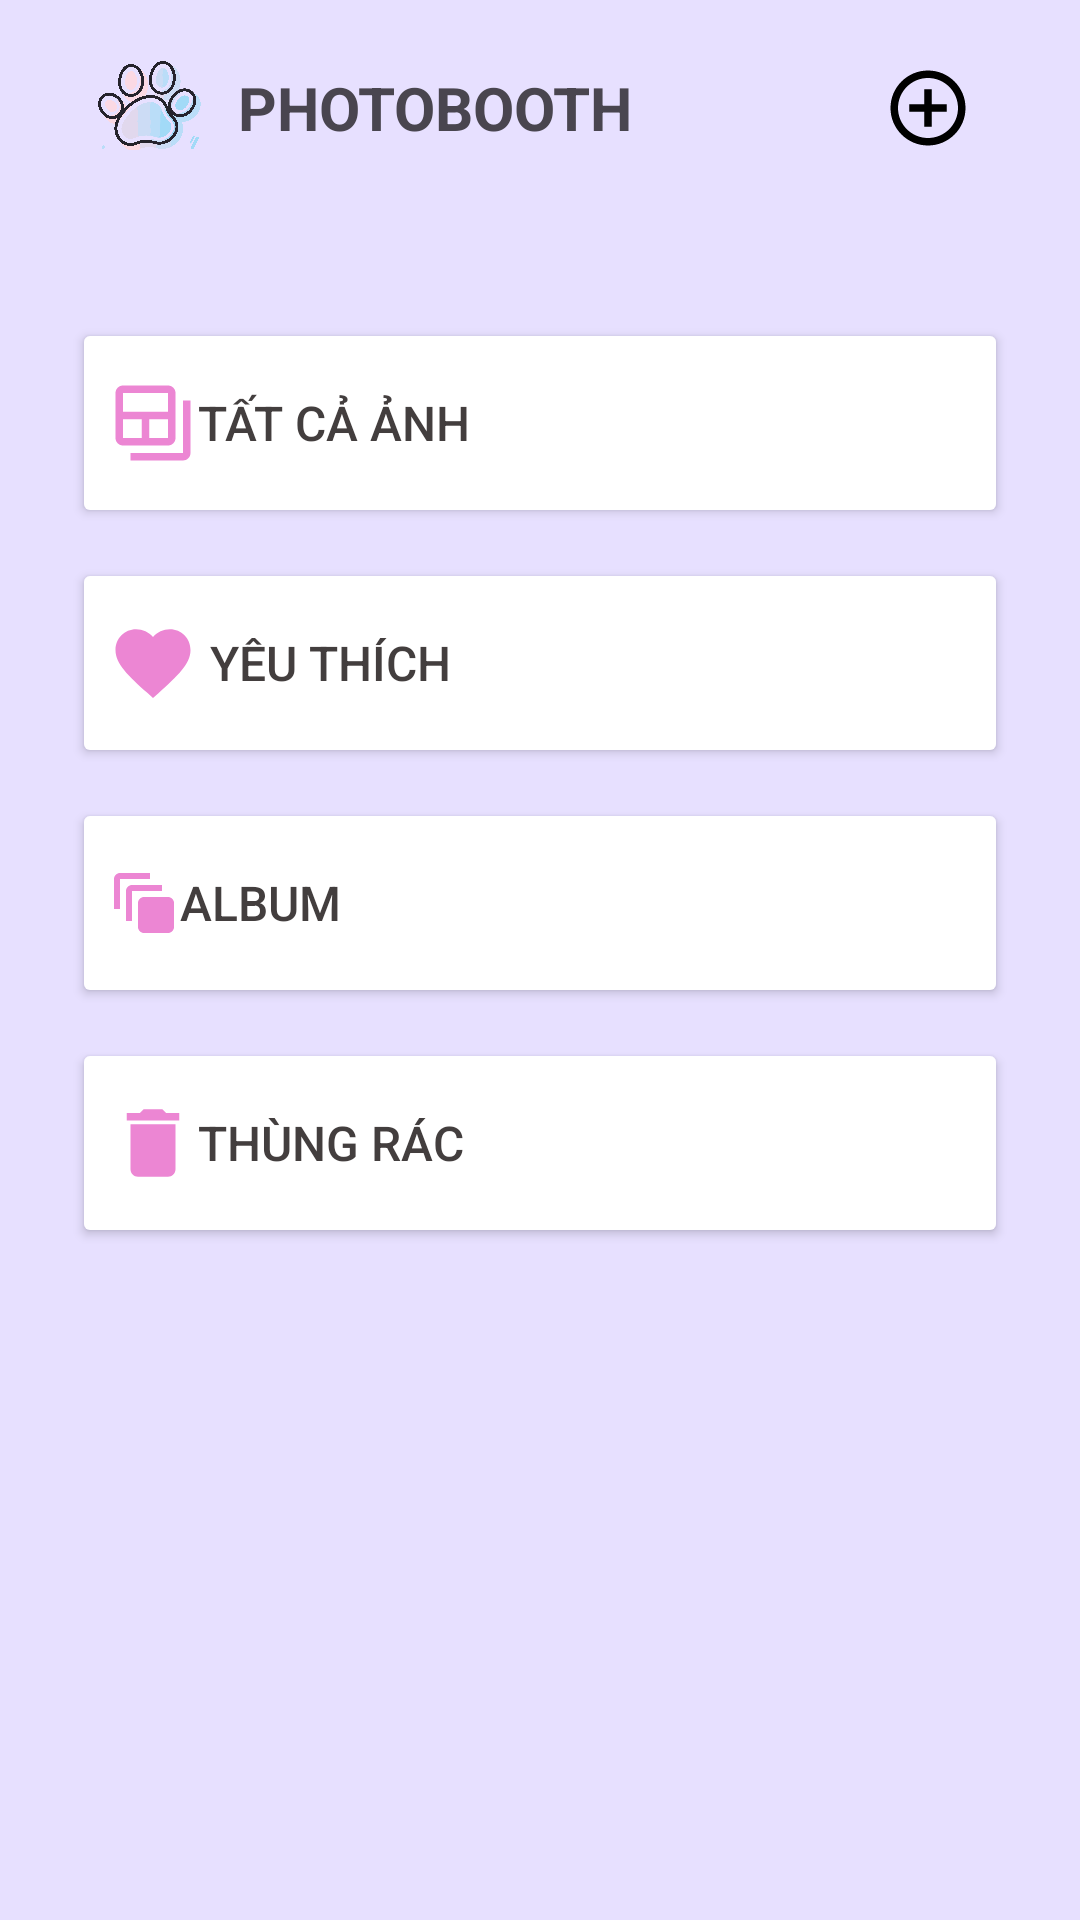

Screen size 1080px x 1920px. Icon name, then its box in pixels as (x1, y1, x2, y2):
add circle: (890, 70, 966, 146)
